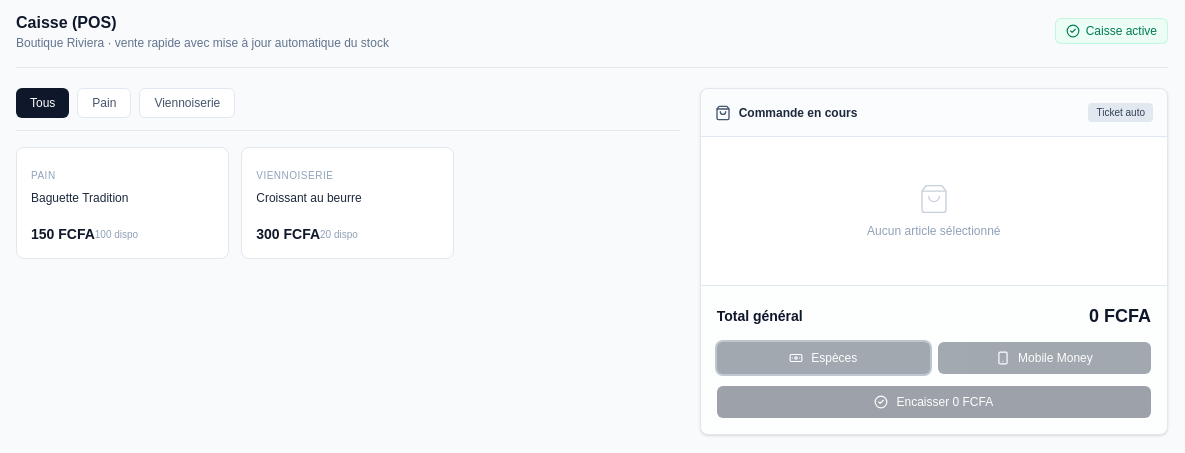
Test: PosView › ajoute un article au panier et met à jour le total
Click the heading "Baguette Tradition" at [80, 198], box x1=31 y1=190 x2=128 y2=206
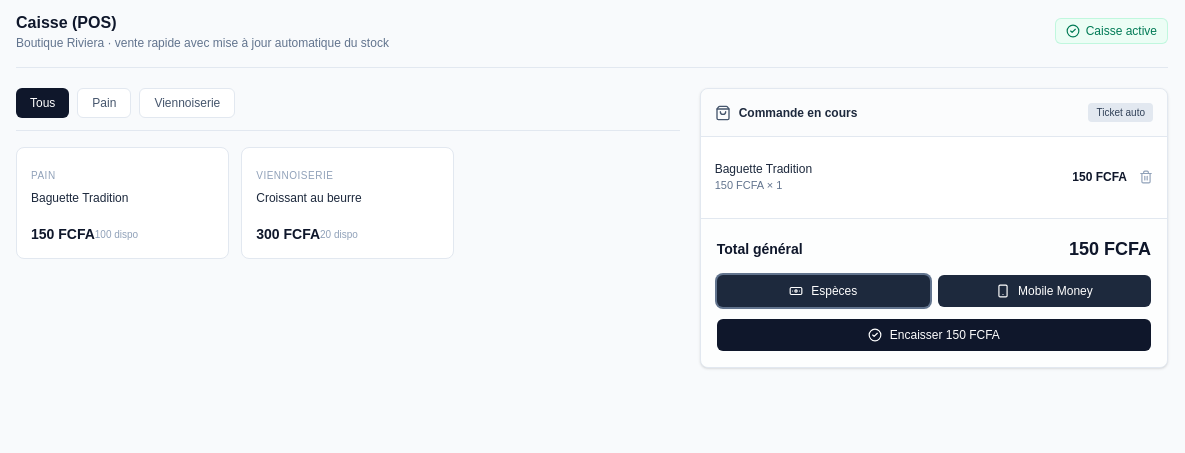
Expected: the text "Total général" is shown, x1=717 y1=238 x2=803 y2=258
Now the text "150 FCFA × 1" is shown, box x1=715 y1=179 x2=782 y2=191
